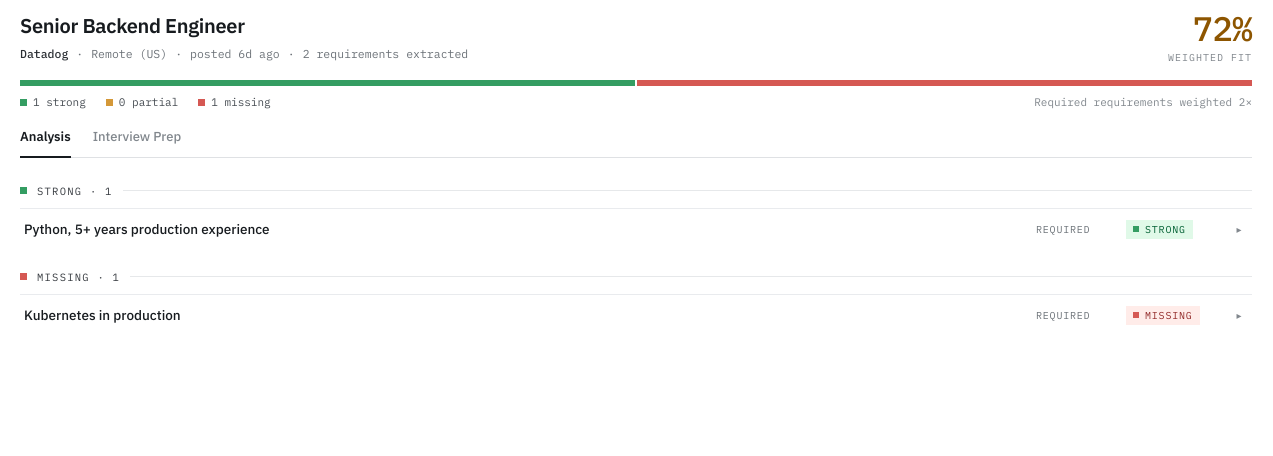
it: AnalysisPane › shows honest absence instead of a broken citation
Click the button "Kubernetes in production required missing ▸". click: (102, 315)
box: [20,294,1252,336]
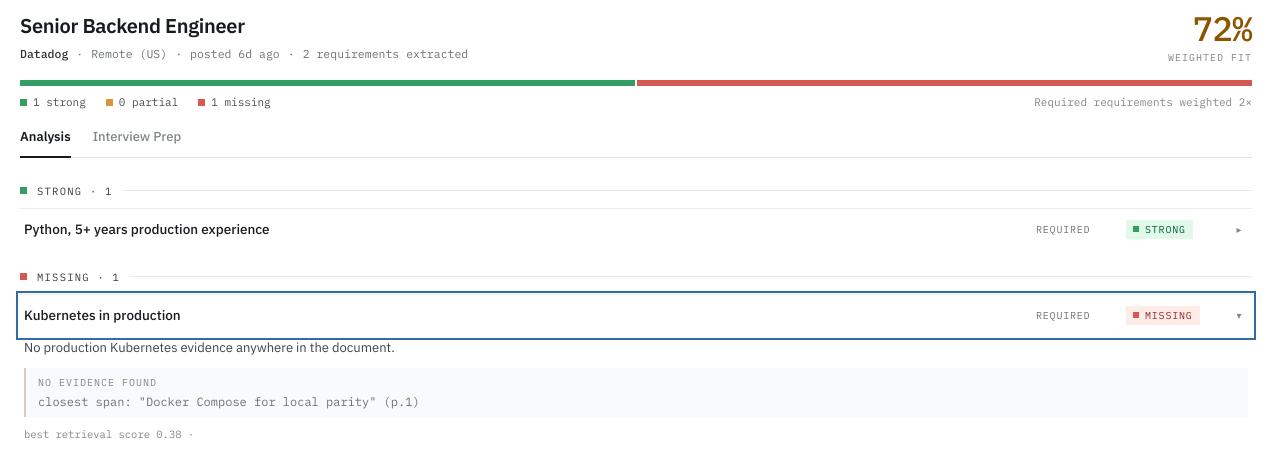
Expected: the text "No evidence found" is shown, [38,376,157,389]
Expected: the text "closest span: \"Docker Compose for local parity\" (p.1)" is shown, [38,394,420,409]
